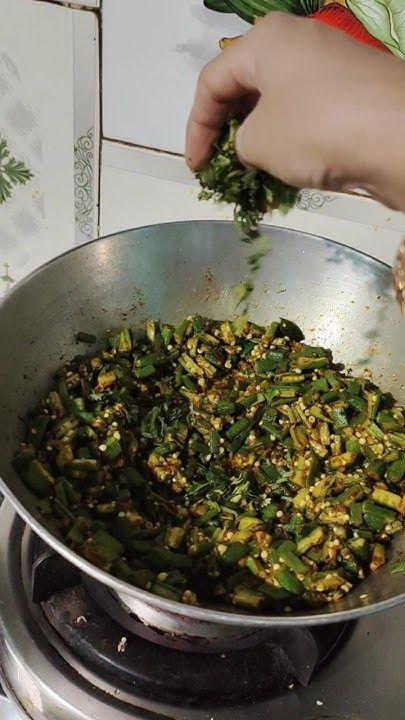bhindi: (69, 348, 401, 556)
